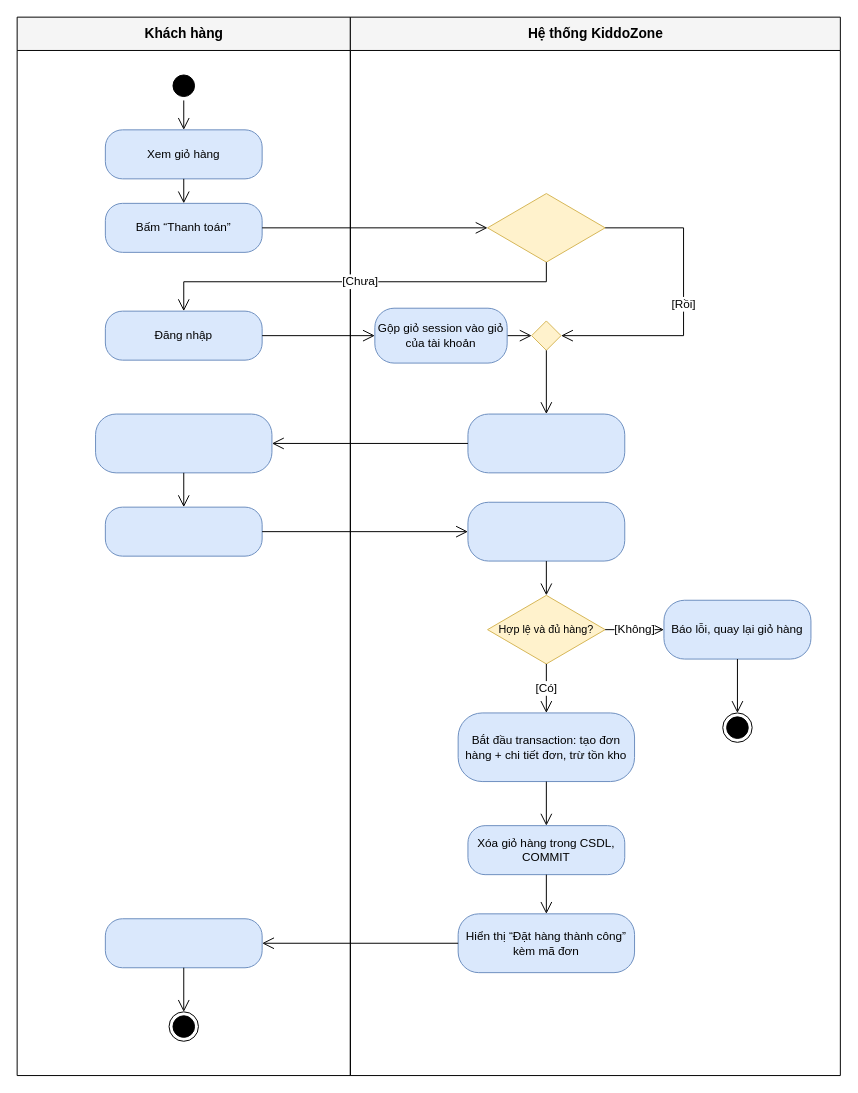
This 858x1093 diagram has some shape labels left out. The centre of each missing label's shape, as x and y in pixels:
Bấm “Đặt hàng”: point 183,531
Hiển thị form thông tin giao hàng: point 546,443
Kiểm tra dữ liệu và tồn kho: point 546,531
Nhập thông tin nhận hàng, chọn phương thức thanh toán: point 183,443
Xem mã đơn hàng: point 183,943
Đã đăng nhập?: point 546,227
